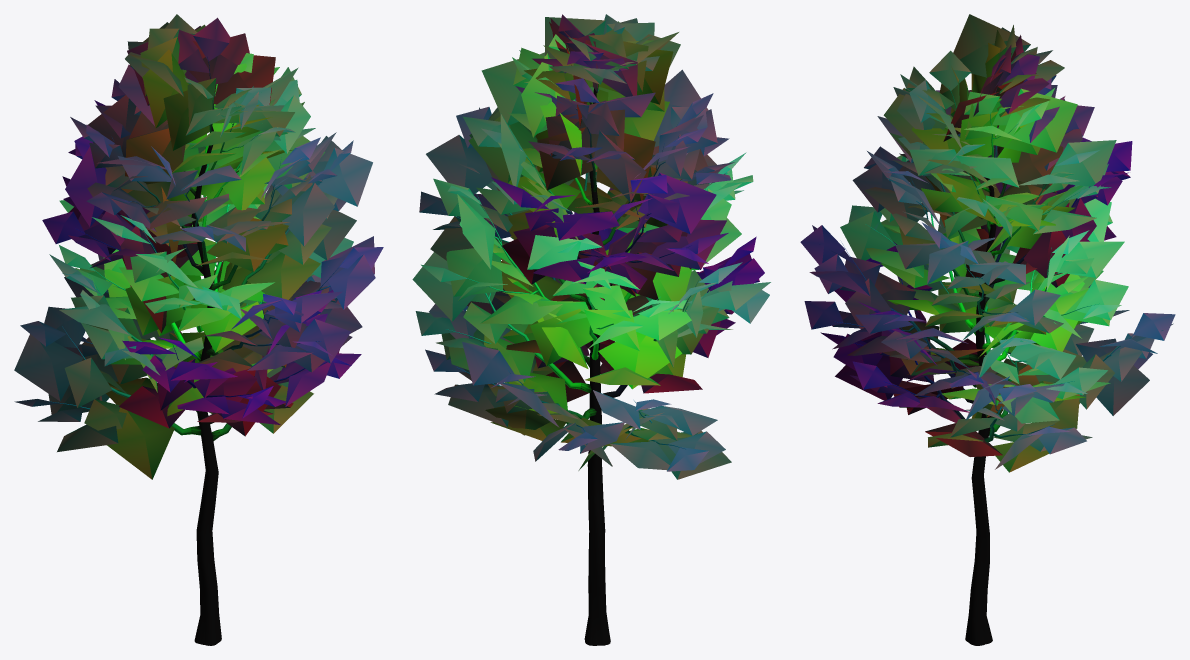
Rendered from SM_WLTree_010.FBX.
3 renders of one model, left to right at view 1: azimuth 30°, elevation 25°; view 2: azimuth 150°, elevation 25°; view 3: azimuth 270°, elevation 25°, orthographic. The views are drawn at different scales.
Parts seen in each view (by area): view 1: SM_WLTree_10_LOD0; view 2: SM_WLTree_10_LOD0; view 3: SM_WLTree_10_LOD0.
Part boxes in pixels (x1,y1,x2,y2): SM_WLTree_10_LOD0: [14, 14, 383, 645]; SM_WLTree_10_LOD0: [412, 14, 770, 645]; SM_WLTree_10_LOD0: [800, 14, 1175, 645].
Size of what is drawn, in the model's own units: 551 by 581 by 1018.
